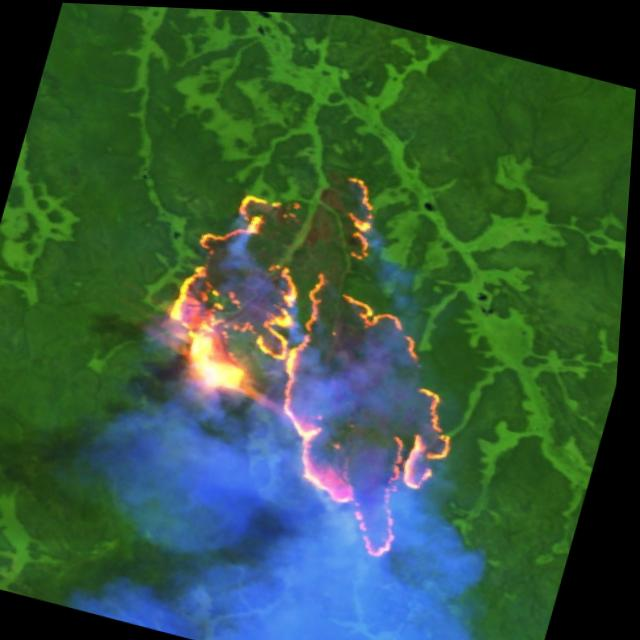fire: (110, 128, 536, 577)
